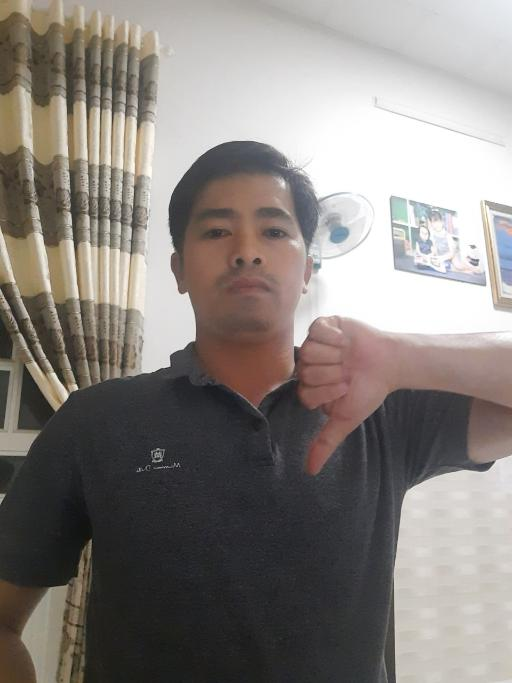dislike: (293, 312, 392, 477)
